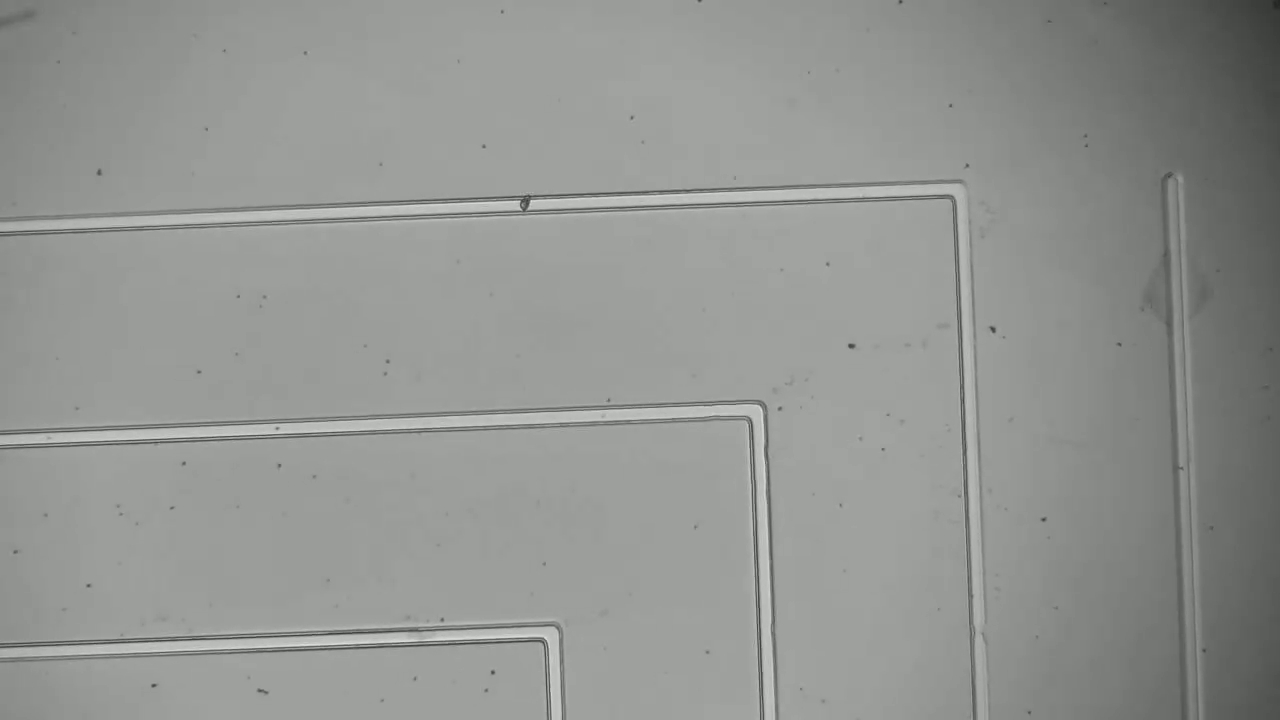stains_enbedded: (512, 190, 541, 220)
